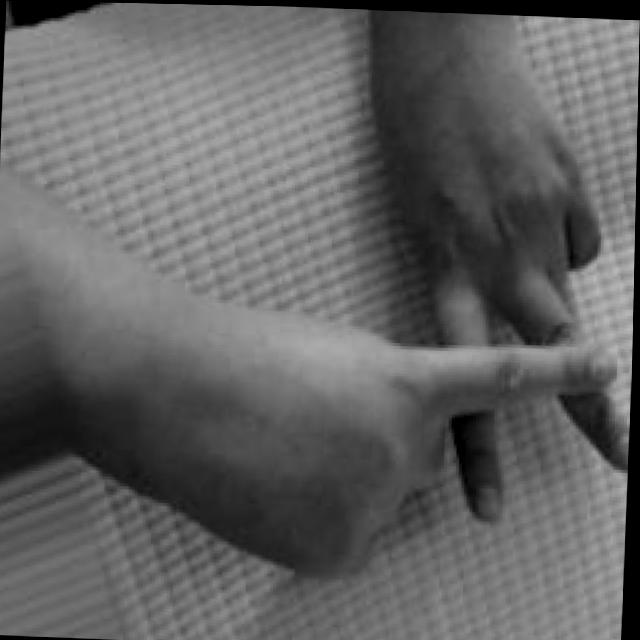A: (275, 54, 639, 590)
